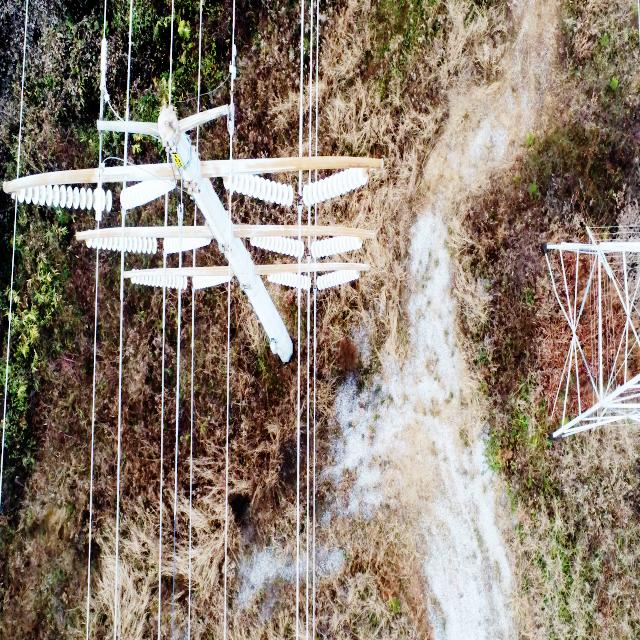poles: (3, 133, 382, 361), (179, 105, 229, 130), (97, 120, 159, 138)
wires: (85, 162, 237, 639), (293, 256, 323, 640), (86, 220, 108, 640), (162, 0, 239, 115), (105, 381, 130, 640), (0, 192, 18, 508), (114, 201, 126, 640), (299, 0, 325, 160), (112, 0, 133, 169), (295, 157, 362, 195), (96, 17, 110, 190), (16, 0, 29, 180), (317, 236, 366, 279), (302, 235, 337, 271), (297, 202, 326, 229)
